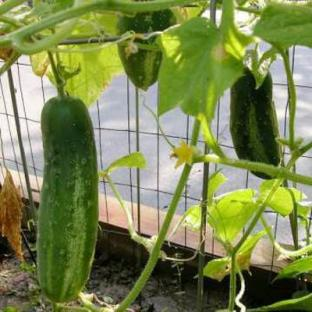Cucumber: (37, 97, 98, 302), (231, 68, 281, 165), (118, 43, 162, 90)
